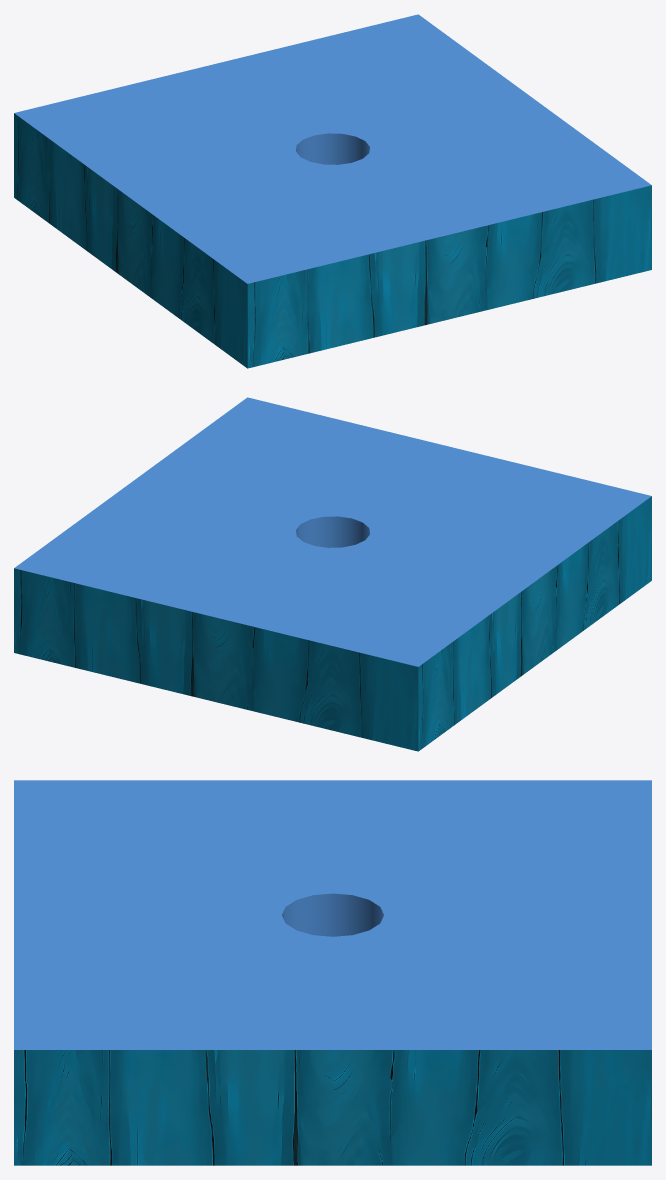
Rendered from M_Tile_Finish.fbx.
3 views of the same model, one above another, from view 1: azimuth 30°, elevation 25°; view 2: azimuth 150°, elevation 25°; view 3: azimuth 270°, elevation 25° (orthographic). The views are drawn at different scales.
Visible parts, largest first — view 1: Finish; view 2: Finish; view 3: Finish.
Boxes of the visible parts, x1,y1,x2,y2 form: Finish: (14,14,651,368); Finish: (14,397,651,751); Finish: (14,780,651,1165).
Bounding box in the file's own units: 100 × 20 × 100.
